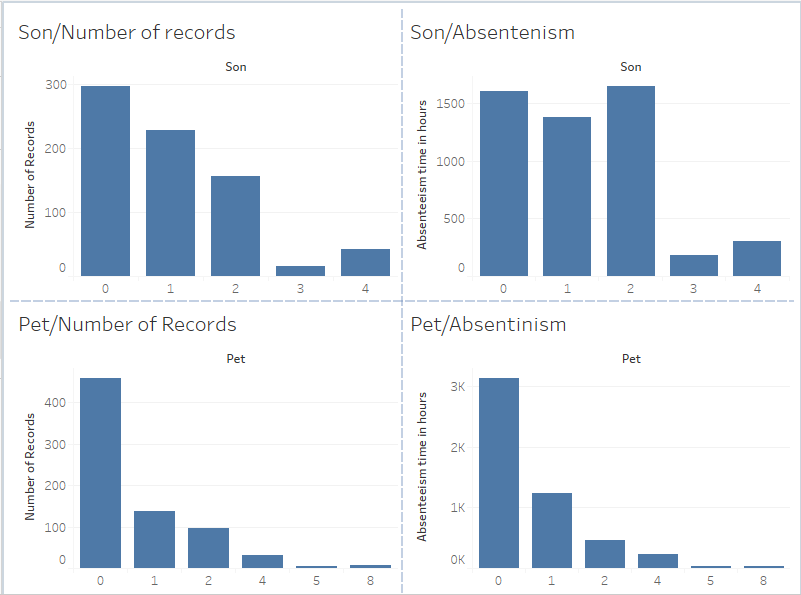

The page's visual inventory and layout, read from the dashboard file:
{"tool":"tableau","page":{"name":"Dashboard 8","canvas":[800,600],"ordinal":9},"visuals":[{"type":"worksheet","title":"Sheet 24","mark":"Automatic","rows":["Number of Records"],"cols":["Son"],"box":[8,8,392,292]},{"type":"worksheet","title":"Sheet 21","mark":"Automatic","rows":["Absenteeism time in hours"],"cols":["Son"],"box":[400,8,392,292]},{"type":"worksheet","title":"Sheet 22","mark":"Automatic","rows":["Number of Records"],"cols":["Pet"],"box":[8,300,392,292]},{"type":"worksheet","title":"Sheet 23","mark":"Automatic","rows":["Absenteeism time in hours"],"cols":["Pet"],"box":[400,300,392,292]}]}

Visuals, with their boxes in screenshot pixels (x1, y1, x2, y2), scaled from the page's 800x600 canvas onto the 801x595 screenshot:
"Sheet 24" worksheet: bbox=(8, 8, 400, 298)
"Sheet 21" worksheet: bbox=(400, 8, 793, 298)
"Sheet 22" worksheet: bbox=(8, 298, 400, 587)
"Sheet 23" worksheet: bbox=(400, 298, 793, 587)
